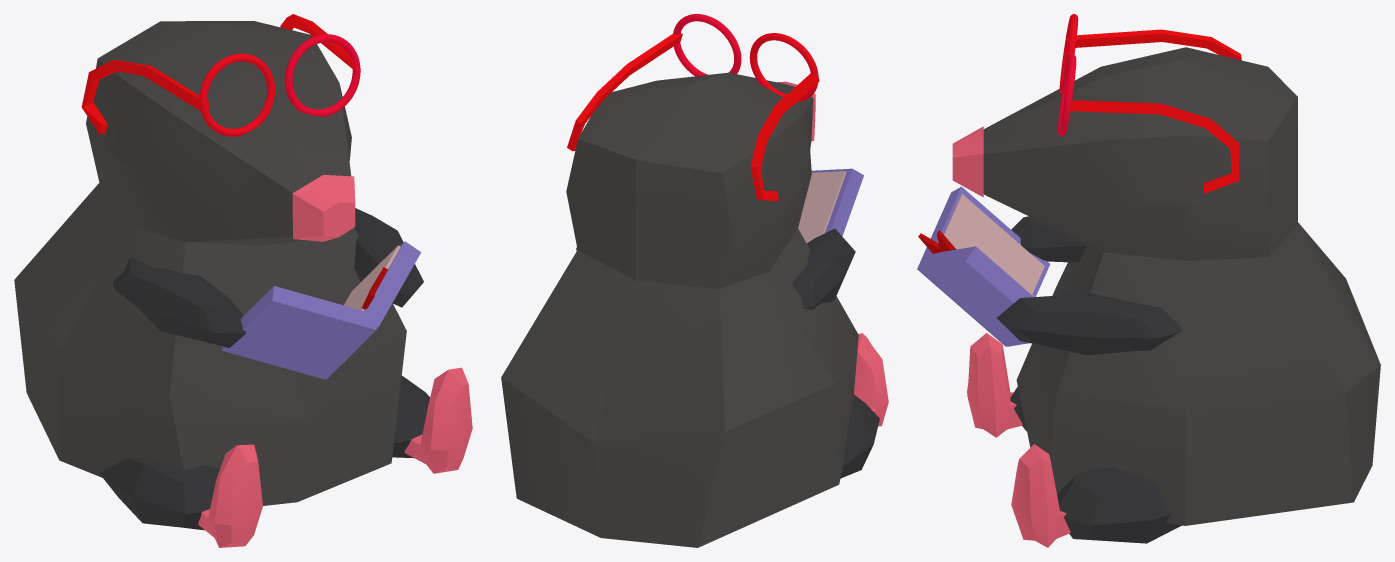
File: mole.glb
3 renders of one model, left to right at view 1: azimuth 30°, elevation 25°; view 2: azimuth 150°, elevation 25°; view 3: azimuth 270°, elevation 25°, orthographic. The views are drawn at different scales.
Parts seen in each view (by area): view 1: Cube, Cube 11, Cube 12, Cube 4.001, Cube 4, Cube 3, Cube 6, Cube 13, Cube 9, Torus, Cube 2, Torus 2 (+3 smaller); view 2: Cube, Cube 12, Cube 15, Cube 4, Cube 4.001, Cube 9, Cube 8, Cube 11, Torus, Torus 2; view 3: Cube, Cube 13, Cube 2, Cube 10, Cube 3, Cube 4, Cube 15, Cube 8, Cube 9, Cube 12, Cube 6, Cube 11 (+2 smaller).
Part boxes in pixels (x1,y1,x2,y2): Cube: [14, 21, 406, 505]; Cube 11: [222, 286, 377, 379]; Cube 12: [113, 257, 245, 347]; Cube 4.001: [99, 457, 219, 530]; Cube 4: [198, 444, 262, 547]; Cube 3: [404, 367, 472, 473]; Cube 6: [292, 175, 355, 241]; Cube 13: [354, 208, 423, 307]; Cube 9: [81, 60, 209, 134]; Torus: [199, 53, 275, 136]; Cube 2: [392, 375, 429, 458]; Torus 2: [284, 34, 360, 116]; Cube: [501, 72, 858, 547]; Cube 12: [792, 228, 855, 309]; Cube 15: [798, 171, 846, 243]; Cube 4: [854, 333, 888, 426]; Cube 4.001: [840, 394, 879, 478]; Cube 9: [750, 73, 819, 200]; Cube 8: [567, 33, 682, 151]; Cube 11: [811, 168, 863, 236]; Torus: [749, 33, 818, 102]; Torus 2: [673, 14, 741, 76]; Cube: [983, 47, 1380, 525]; Cube 13: [997, 293, 1181, 355]; Cube 2: [1057, 467, 1181, 543]; Cube 10: [919, 246, 1033, 346]; Cube 3: [1011, 444, 1070, 547]; Cube 4: [967, 333, 1022, 437]; Cube 15: [944, 194, 1044, 294]; Cube 8: [1069, 100, 1239, 193]; Cube 9: [1066, 29, 1241, 60]; Cube 12: [1011, 216, 1086, 262]; Cube 6: [952, 126, 983, 197]; Cube 11: [917, 186, 1050, 346].
Bounding box in the file's own units: 3.49 × 4.9 × 4.3.
